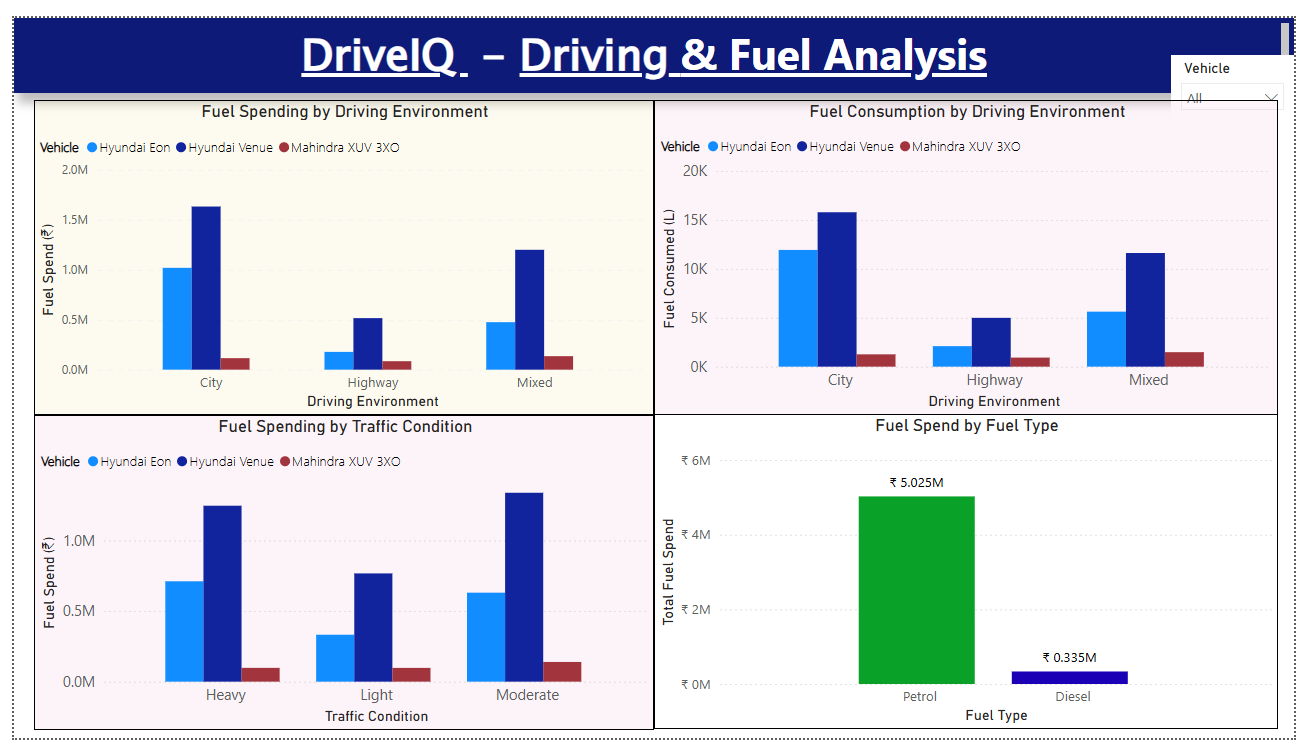

The page's visual inventory and layout, read from the dashboard file:
{"tool":"powerbi","page":{"name":"Driving & Fuel Analysis","canvas":[1280,720],"ordinal":1},"visuals":[{"type":"textbox","title":"DRIVEIQ","box":[0,0,1280,75],"z":0},{"type":"clusteredColumnChart","title":"Fuel Spending by Driving Environment","fields":{"Category":["public fuel_logs.driving_environment"],"Y":["public fuel_logs.Total Fuel Spend"],"Series":["public vehicles.vehicle_name"]},"box":[20,81.7,621.7,315],"z":1000},{"type":"clusteredColumnChart","title":"Fuel Spending by Traffic Condition","fields":{"Y":["public fuel_logs.Total Fuel Spend"],"Category":["public fuel_logs.traffic_condition"],"Series":["public vehicles.vehicle_name"]},"box":[20,396.7,621.7,315],"z":2000},{"type":"slicer","fields":{"Values":["public vehicles.vehicle_name"]},"box":[1156.7,36.7,123.3,76.7],"z":3000},{"type":"clusteredColumnChart","title":"Fuel Consumption by Driving Environment","fields":{"Series":["public vehicles.vehicle_name"],"Category":["public fuel_logs.driving_environment"],"Y":["public fuel_logs.Total Litres"]},"box":[641.7,81.7,621.7,315],"z":4000},{"type":"clusteredColumnChart","title":"Fuel Spend by Fuel Type","fields":{"Category":["public vehicles.fuel_type"],"Y":["public fuel_logs.Total Fuel Spend"]},"box":[640,396.7,618.3,315],"z":5000}]}

Visuals, with their boxes in screenshot pixels (x1, y1, x2, y2), scaled from the page's 1280x720 canvas onto the 1304x751 screenshot:
"DRIVEIQ" textbox: (0,0,1303,78)
"Fuel Spending by Driving Environment" clusteredColumnChart: (20,85,654,414)
"Fuel Spending by Traffic Condition" clusteredColumnChart: (20,414,654,742)
slicer - public vehicles.vehicle_name: (1178,38,1303,118)
"Fuel Consumption by Driving Environment" clusteredColumnChart: (654,85,1287,414)
"Fuel Spend by Fuel Type" clusteredColumnChart: (652,414,1282,742)
